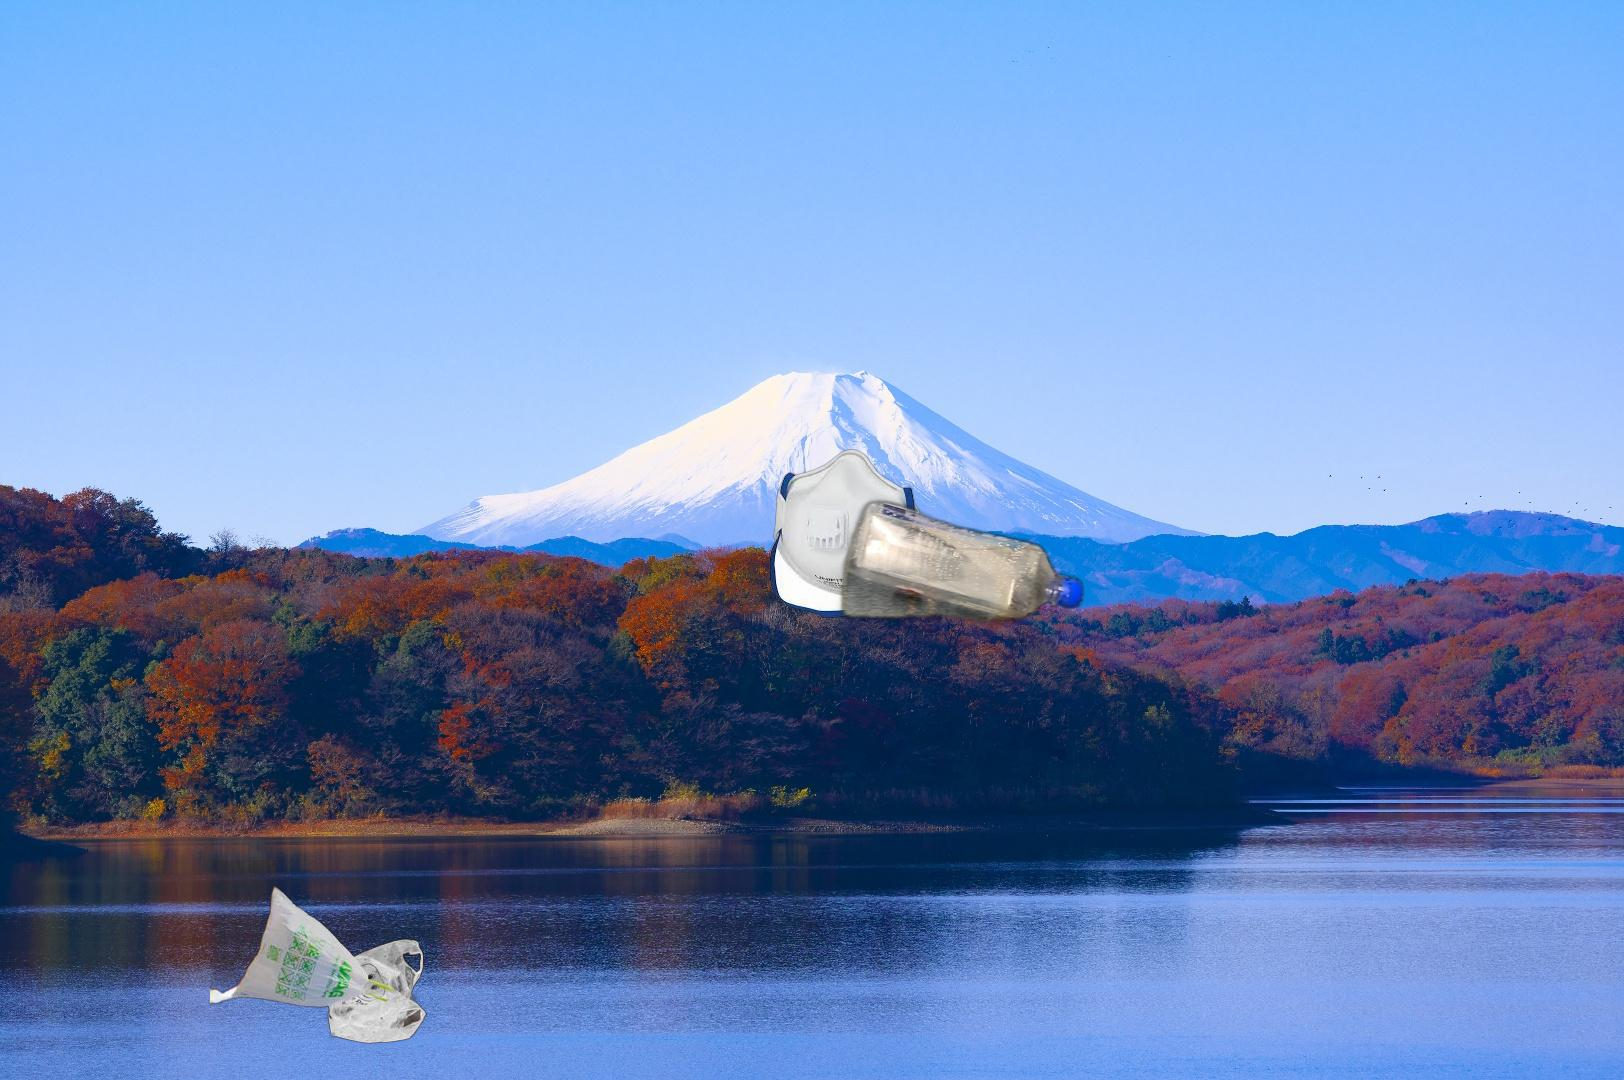plastic-bag: (210, 859, 429, 1047)
plastic-bottles: (832, 495, 1088, 636)
trash: (767, 447, 923, 621)
